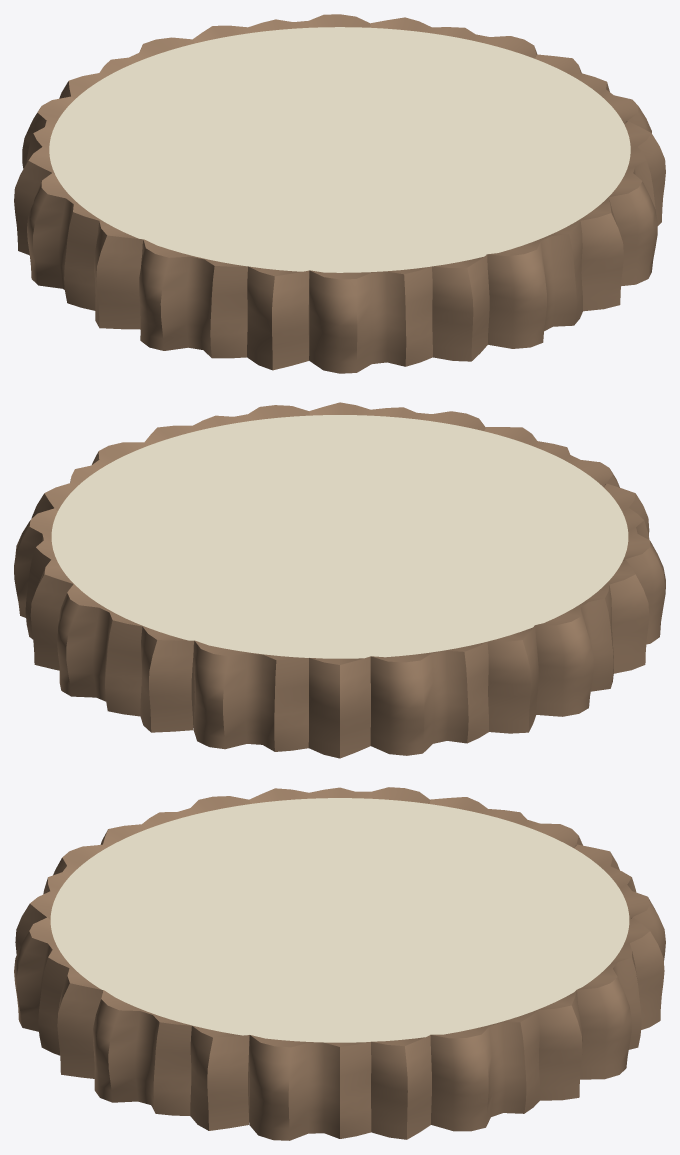
Rendered from SM_TreeStump.fbx.
3 renders of one model, top to bottom at view 1: azimuth 30°, elevation 25°; view 2: azimuth 150°, elevation 25°; view 3: azimuth 270°, elevation 25°, orthographic.
Visible parts, largest first — view 1: SM_TreeStump; view 2: SM_TreeStump; view 3: SM_TreeStump.
Part boxes in pixels (x1,y1,x2,y2): SM_TreeStump: (14, 14, 665, 373); SM_TreeStump: (14, 402, 665, 758); SM_TreeStump: (14, 787, 665, 1140).
Size of the model in its own units: 1699 by 259 by 1712.
